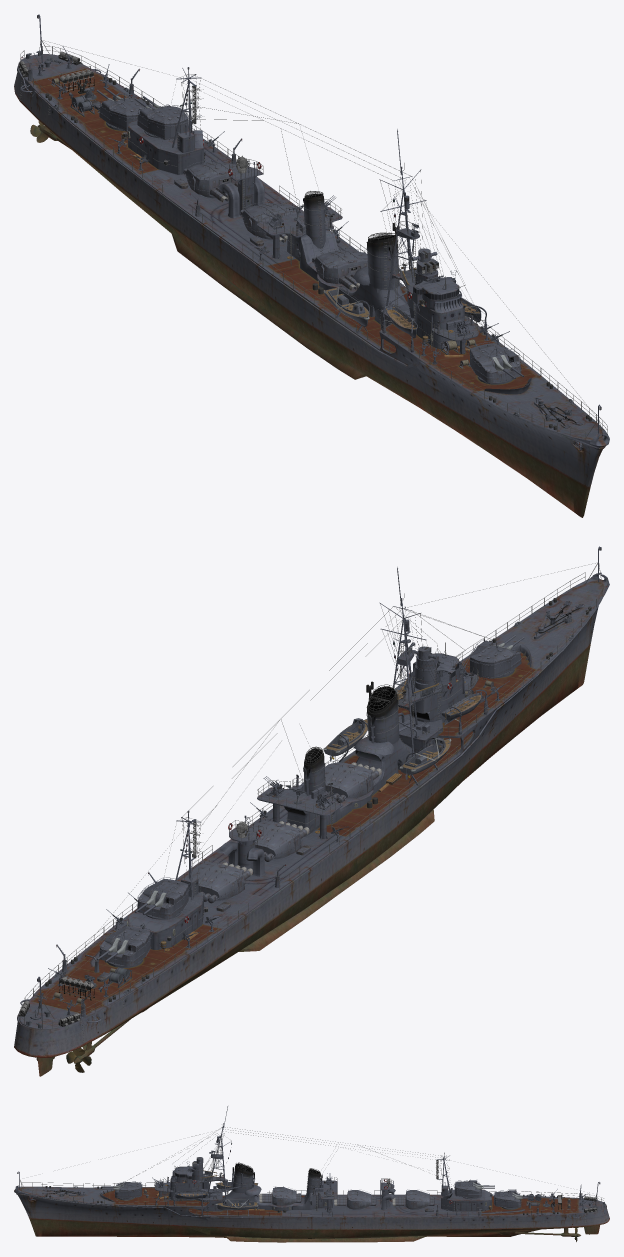
The model's file is uploads_files_3118570_Shimakaze.fbx.
3 renders of one model, top to bottom at view 1: azimuth 30°, elevation 25°; view 2: azimuth 150°, elevation 25°; view 3: azimuth 270°, elevation 25°, orthographic. The views are drawn at different scales.
Visible parts, largest first — view 1: 物件_3, 物件_60, 物件_2, 物件_1, 物件_40, 物件_37, 物件_39, 物件_36, 物件_38, 物件_35, 物件_85, 物件_86 (+1 smaller); view 2: 物件_3, 物件_60, 物件_2, 物件_1, 物件_85, 物件_36, 物件_37, 物件_38, 物件_39, 物件_35, 物件_40, 物件_21 (+1 smaller); view 3: 物件_3, 物件_60, 物件_2, 物件_1, 物件_37, 物件_35, 物件_36, 物件_38, 物件_39, 物件_40, 物件_85, 物件_86.
Part boxes in pixels (bbox=[...]): 物件_3: bbox=[14, 14, 521, 440]; 物件_60: bbox=[249, 131, 492, 417]; 物件_2: bbox=[448, 360, 609, 517]; 物件_1: bbox=[19, 40, 607, 439]; 物件_40: bbox=[468, 341, 524, 383]; 物件_37: bbox=[312, 247, 367, 290]; 物件_39: bbox=[134, 96, 188, 141]; 物件_36: bbox=[183, 159, 239, 202]; 物件_38: bbox=[96, 88, 150, 131]; 物件_35: bbox=[239, 200, 299, 242]; 物件_85: bbox=[323, 269, 415, 326]; 物件_86: bbox=[384, 297, 481, 338]; 物件_3: bbox=[14, 676, 522, 1076]; 物件_60: bbox=[251, 568, 495, 895]; 物件_2: bbox=[460, 546, 609, 749]; 物件_1: bbox=[20, 562, 607, 1044]; 物件_85: bbox=[323, 718, 451, 779]; 物件_36: bbox=[191, 860, 252, 903]; 物件_37: bbox=[324, 760, 381, 802]; 物件_38: bbox=[96, 924, 152, 966]; 物件_39: bbox=[134, 877, 190, 919]; 物件_35: bbox=[248, 819, 309, 861]; 物件_40: bbox=[468, 635, 524, 679]; 物件_21: bbox=[18, 975, 94, 1026]; 物件_3: bbox=[137, 1154, 609, 1242]; 物件_60: bbox=[155, 1107, 337, 1242]; 物件_2: bbox=[14, 1171, 136, 1236]; 物件_1: bbox=[20, 1127, 603, 1225]; 物件_37: bbox=[259, 1186, 301, 1205]; 物件_35: bbox=[334, 1189, 376, 1208]; 物件_36: bbox=[392, 1189, 434, 1208]; 物件_38: bbox=[493, 1189, 534, 1207]; 物件_39: bbox=[453, 1179, 494, 1197]; 物件_40: bbox=[102, 1181, 142, 1198]; 物件_85: bbox=[215, 1179, 258, 1210]; 物件_86: bbox=[175, 1191, 208, 1199].
Size of the model in its own units: 8.58 by 85.67 by 20.97.
Materials: 30 (28 with a texture image).
